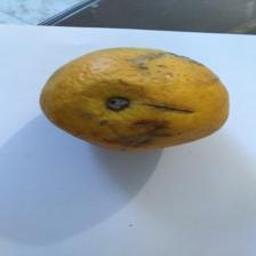Orange Semirotten: (38, 34, 235, 159)
